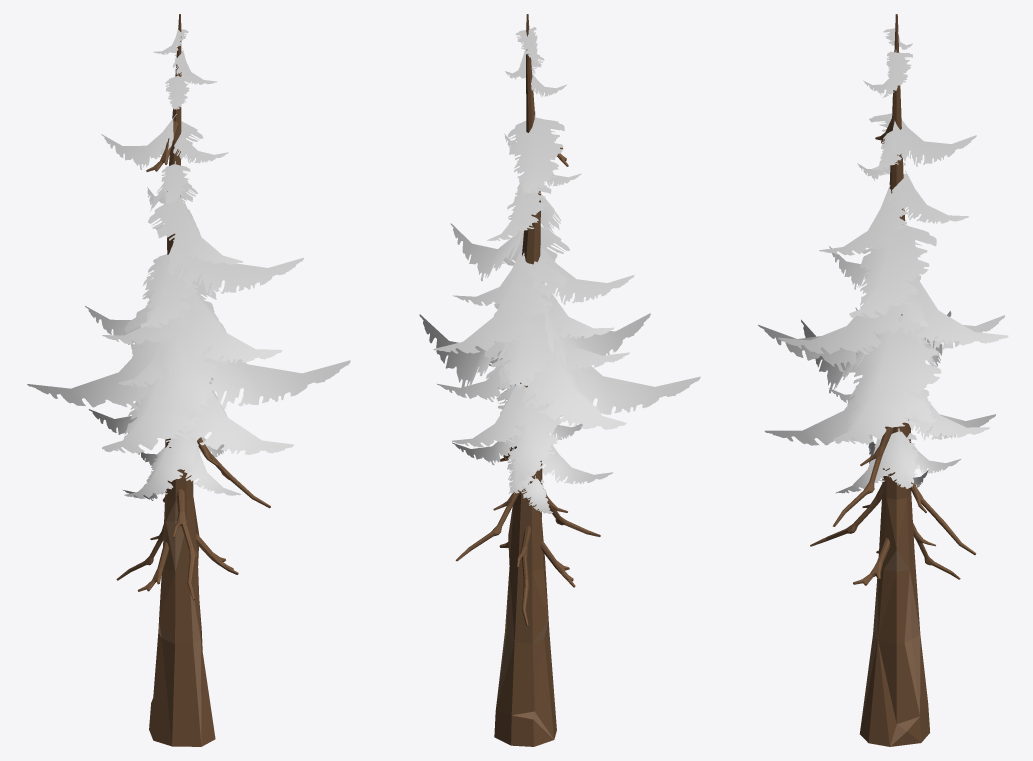
The model's file is mesh_tree_pine_02.fbx.
3 views of the same model, side by side, from view 1: azimuth 30°, elevation 25°; view 2: azimuth 150°, elevation 25°; view 3: azimuth 270°, elevation 25° (orthographic).
Parts seen in each view (by area): view 1: mesh_tree_pine_02_leaves_LOD0, mesh_tree_pine_02_trunk_LOD0; view 2: mesh_tree_pine_02_leaves_LOD0, mesh_tree_pine_02_trunk_LOD0; view 3: mesh_tree_pine_02_leaves_LOD0, mesh_tree_pine_02_trunk_LOD0.
Part boxes in pixels (x1,y1,x2,y2): mesh_tree_pine_02_leaves_LOD0: (27,27,350,500); mesh_tree_pine_02_trunk_LOD0: (116,14,270,746); mesh_tree_pine_02_leaves_LOD0: (419,27,700,513); mesh_tree_pine_02_trunk_LOD0: (455,14,600,746); mesh_tree_pine_02_leaves_LOD0: (758,28,1008,493); mesh_tree_pine_02_trunk_LOD0: (810,14,976,746).
Size of what is drawn, in the model's own units: 5.91 by 13.63 by 4.76.
